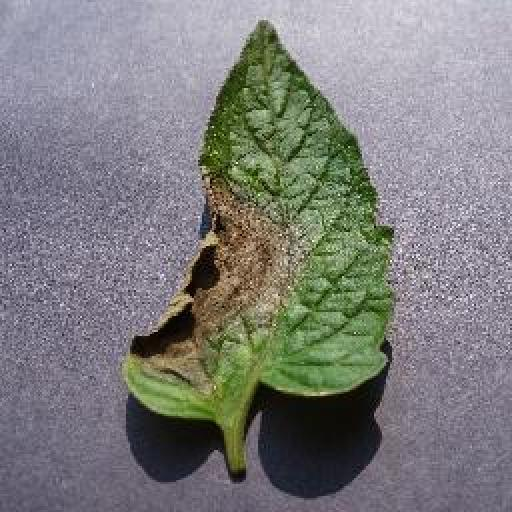Late Blight: (123, 16, 401, 424)
